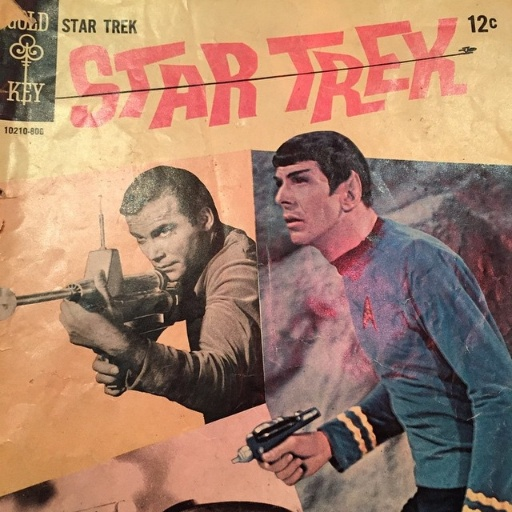hand: (269, 416, 344, 484), (58, 297, 123, 353), (90, 351, 129, 396)
